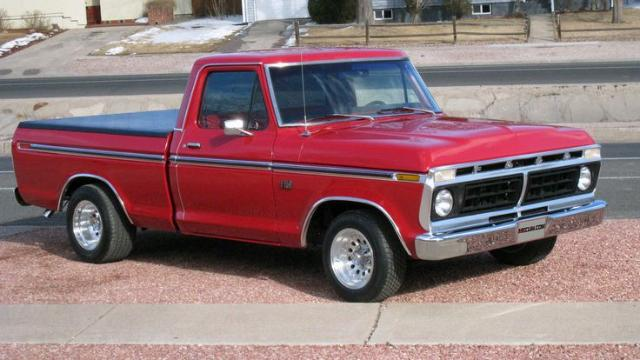pickup-truck: (11, 47, 607, 302)
